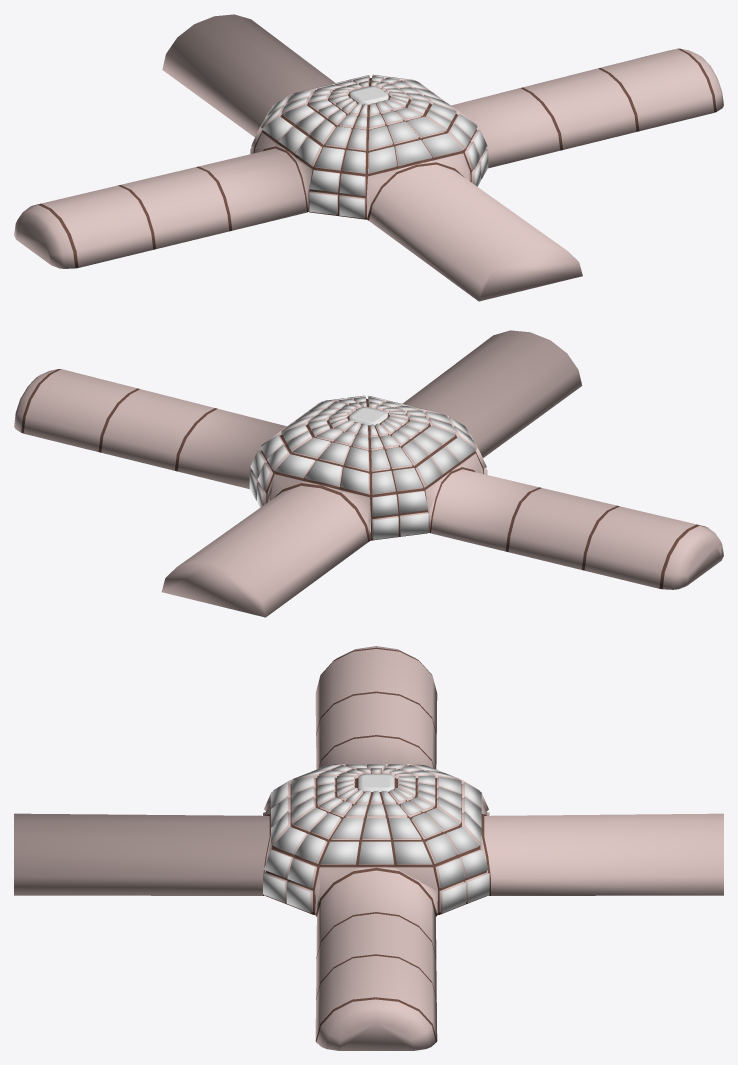
File: mall roof-v2.fbx
3 views of the same model, one above another, from view 1: azimuth 30°, elevation 25°; view 2: azimuth 150°, elevation 25°; view 3: azimuth 270°, elevation 25° (orthographic). The views are drawn at different scales.
Visible parts, largest first — view 1: roof; view 2: roof; view 3: roof.
Part boxes in pixels (<box>): roof: <box>14,14,723,301</box>; roof: <box>14,330,723,617</box>; roof: <box>14,646,723,1050</box>.
Bounding box in the file's own units: 2766 × 306 × 2259.
